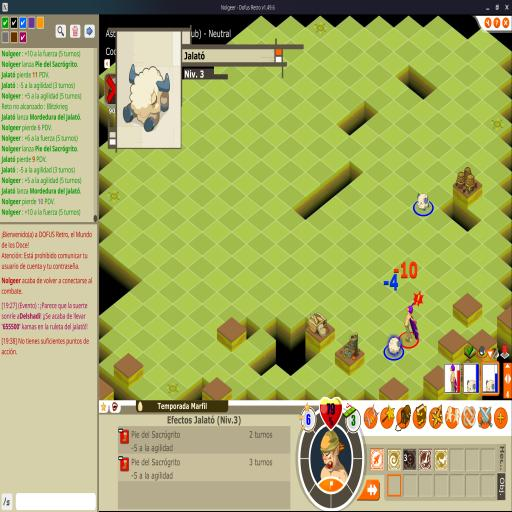Enemigos: (387, 335, 401, 355), (417, 192, 430, 211)
Personaje: (404, 305, 419, 343)
